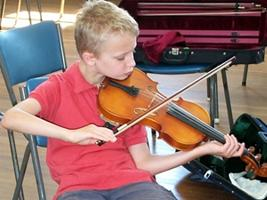person: (1, 2, 247, 200)
